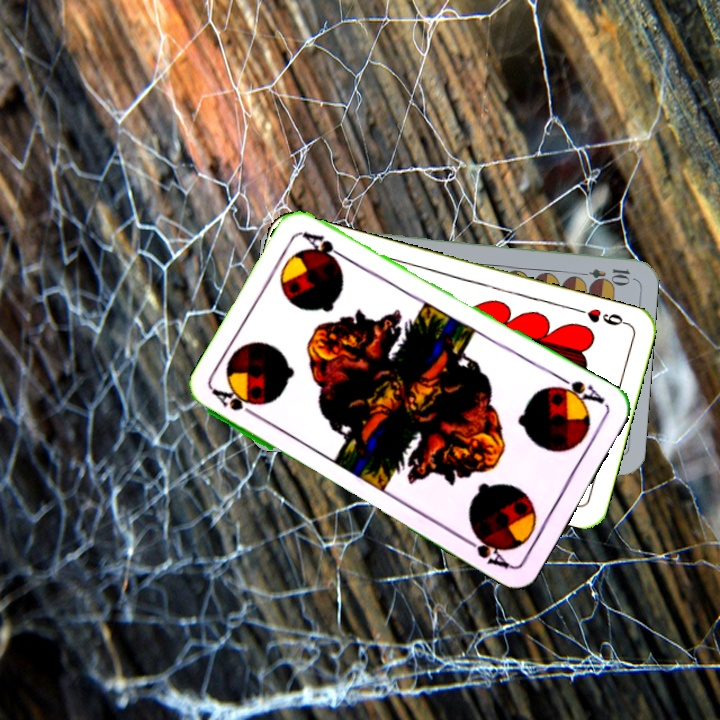E10: (573, 264, 633, 284)
H9: (573, 304, 631, 329)
SA: (548, 371, 608, 408), (209, 385, 264, 422)
